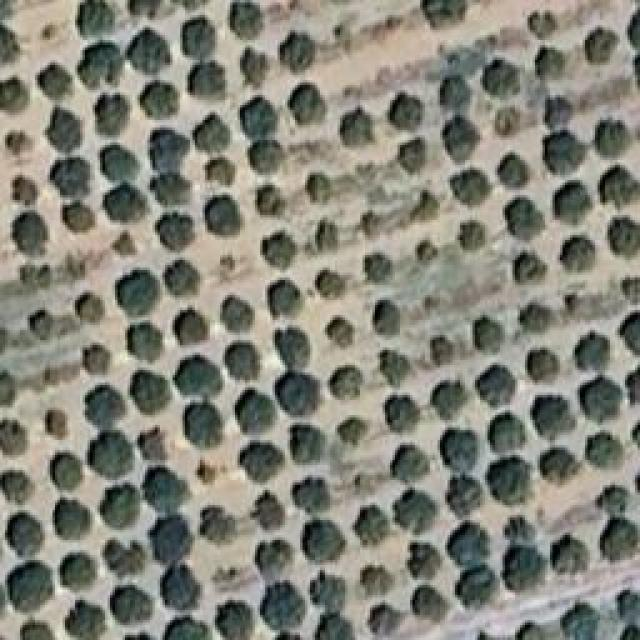Tree: (113, 265, 165, 317), (490, 458, 545, 507), (548, 178, 592, 234), (10, 560, 60, 609), (140, 463, 184, 518), (255, 585, 306, 632), (488, 413, 536, 462), (87, 437, 133, 484), (108, 582, 156, 627), (255, 538, 299, 587), (498, 510, 551, 550), (170, 357, 217, 402), (335, 107, 380, 154), (275, 23, 319, 71), (235, 443, 287, 483), (82, 387, 126, 434), (225, 340, 269, 386), (500, 548, 547, 591), (275, 373, 321, 416), (577, 380, 624, 422), (450, 520, 495, 563), (160, 562, 202, 608), (485, 55, 526, 102), (233, 388, 276, 432), (128, 30, 171, 74), (88, 90, 130, 135), (385, 90, 427, 135), (388, 445, 430, 490), (302, 520, 348, 561), (50, 492, 90, 539), (215, 292, 255, 339), (540, 135, 588, 174), (48, 105, 91, 148), (455, 568, 498, 611), (105, 538, 150, 579), (54, 150, 94, 196), (538, 392, 578, 438), (183, 401, 225, 444), (475, 363, 517, 406), (102, 183, 146, 224), (57, 553, 101, 594), (553, 538, 594, 582), (213, 600, 258, 640), (390, 485, 432, 527), (555, 233, 598, 274), (5, 515, 45, 559), (270, 328, 315, 367), (145, 130, 193, 166), (288, 423, 330, 464), (443, 115, 483, 158), (75, 43, 120, 81), (288, 83, 328, 125), (153, 215, 196, 254), (353, 508, 394, 548), (575, 335, 614, 377), (535, 448, 574, 490), (563, 602, 606, 640), (417, 0, 475, 28), (400, 540, 440, 580), (308, 573, 349, 612), (10, 208, 51, 247), (595, 115, 634, 156), (100, 488, 142, 526), (183, 20, 221, 62), (190, 58, 228, 100), (148, 520, 191, 557), (133, 370, 172, 410), (48, 453, 87, 493), (435, 430, 475, 469), (293, 475, 334, 513), (78, 0, 119, 38), (103, 148, 144, 186), (598, 168, 636, 209), (138, 80, 181, 116), (540, 98, 583, 134), (453, 163, 492, 202), (443, 473, 482, 512), (63, 600, 101, 640), (583, 25, 620, 66), (315, 607, 360, 640), (503, 200, 542, 238), (598, 485, 637, 523), (128, 325, 166, 363), (238, 98, 276, 136), (250, 143, 288, 181), (227, 0, 265, 38), (195, 110, 232, 149), (495, 153, 532, 192), (393, 138, 430, 177), (330, 365, 369, 402), (378, 397, 420, 431), (203, 195, 240, 233), (585, 435, 622, 473), (525, 345, 564, 381), (165, 255, 201, 293), (192, 453, 228, 491), (406, 184, 444, 220), (410, 585, 449, 620), (600, 515, 634, 555), (198, 507, 239, 540), (353, 560, 392, 594), (33, 60, 69, 96), (265, 283, 301, 319), (515, 248, 549, 286), (134, 427, 174, 459), (515, 302, 553, 335), (610, 213, 639, 256), (60, 198, 95, 233), (322, 318, 356, 354), (3, 73, 32, 115), (150, 175, 184, 210), (470, 322, 505, 356), (333, 416, 370, 448), (240, 45, 270, 84), (252, 490, 286, 524), (175, 310, 208, 345), (38, 407, 73, 440), (533, 42, 568, 75), (253, 185, 284, 222), (0, 475, 33, 509), (440, 72, 474, 105), (72, 292, 106, 325), (370, 598, 402, 633), (494, 102, 525, 138), (610, 590, 639, 628), (2, 125, 34, 159), (162, 615, 207, 639), (374, 300, 404, 335), (18, 260, 54, 289), (15, 615, 58, 639), (377, 350, 409, 382), (82, 340, 116, 370), (435, 380, 465, 414), (356, 208, 385, 243), (257, 238, 291, 267), (208, 154, 238, 186), (452, 218, 484, 248), (0, 425, 29, 458), (318, 218, 352, 246), (5, 175, 41, 201), (528, 10, 564, 36), (317, 270, 349, 297), (515, 617, 551, 640), (308, 173, 336, 202), (430, 334, 456, 364), (0, 25, 19, 65), (410, 240, 441, 262), (620, 315, 640, 349), (365, 253, 391, 279), (28, 315, 55, 340), (113, 233, 137, 259), (625, 8, 640, 43), (563, 288, 580, 315)
